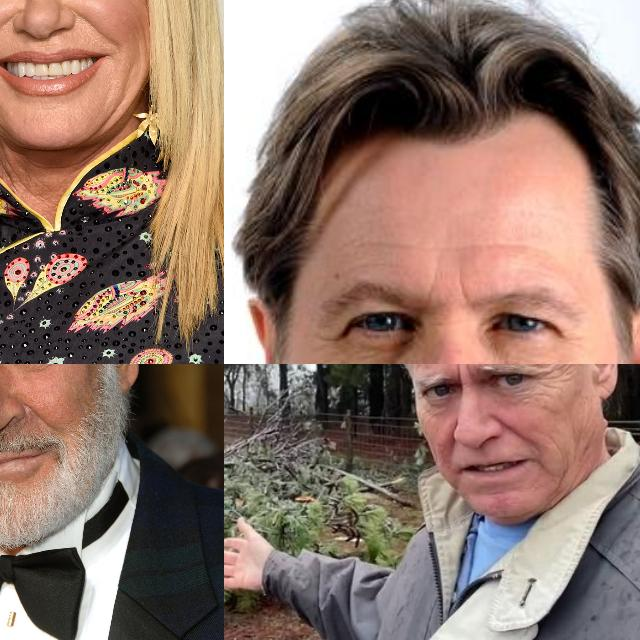crows_feet: (532, 364, 564, 387), (314, 329, 342, 348)
forehead: (351, 232, 437, 258), (454, 240, 554, 258)
frown_line: (420, 274, 468, 302), (449, 364, 469, 384)
gummy_smile: (68, 4, 116, 41), (496, 414, 528, 446), (26, 401, 62, 429), (0, 14, 15, 46)
masseter: (100, 90, 132, 136), (550, 467, 570, 495)
